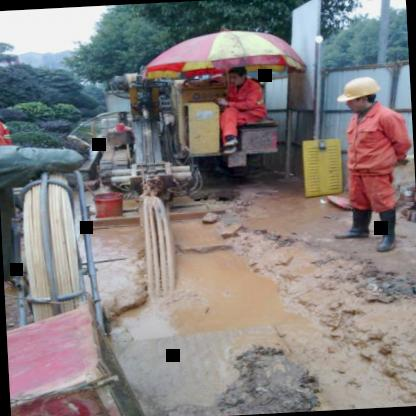head: (223, 62, 250, 87)
helmet: (337, 72, 383, 112)
